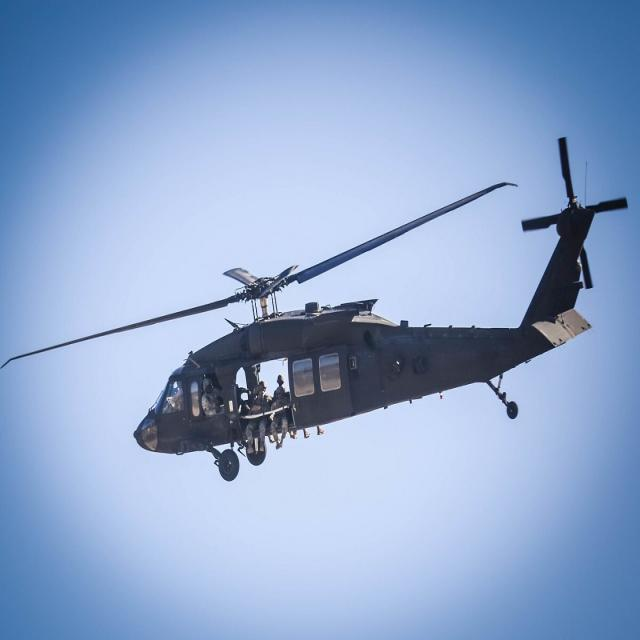helicopter: (128, 138, 638, 494)
